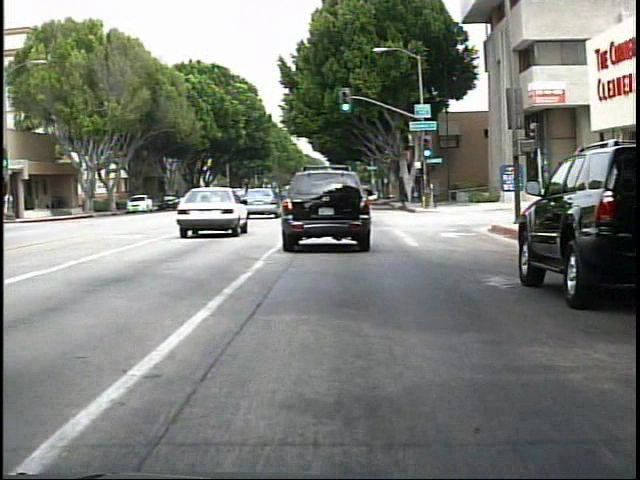person: (7, 188, 24, 220)
